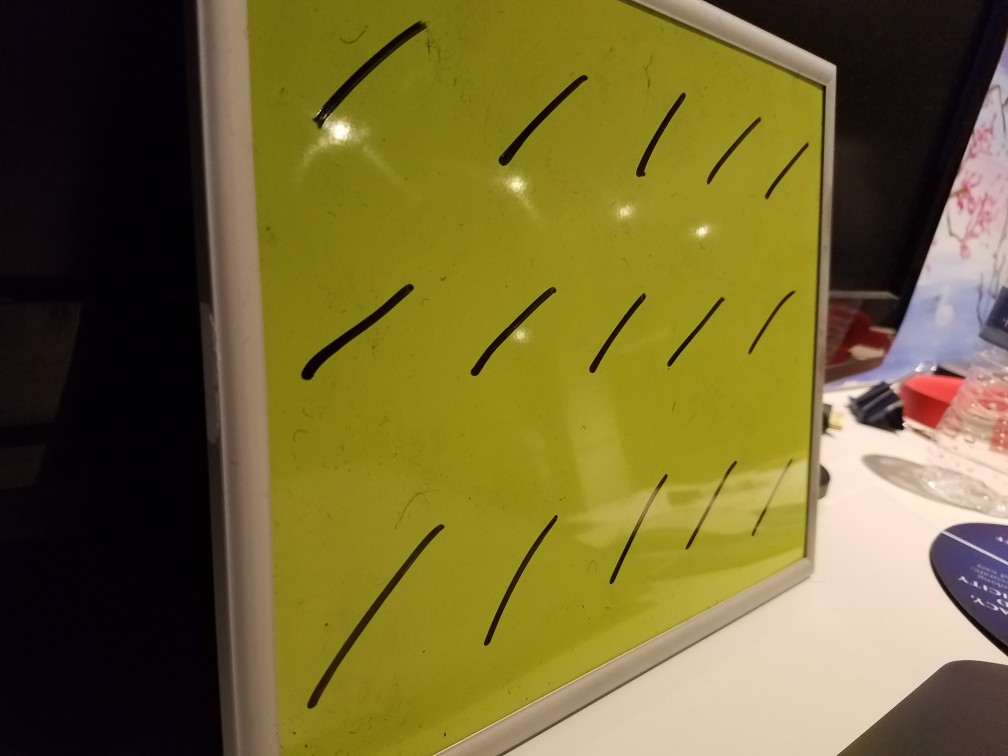/: (294, 516, 447, 724), (291, 3, 442, 138), (470, 500, 571, 654), (297, 270, 420, 394), (450, 269, 571, 385), (497, 57, 592, 175), (607, 466, 671, 591), (621, 74, 692, 183), (579, 285, 654, 382), (681, 458, 741, 557), (660, 288, 723, 382), (701, 104, 763, 187), (745, 451, 797, 548), (744, 281, 799, 363), (758, 130, 815, 206)
